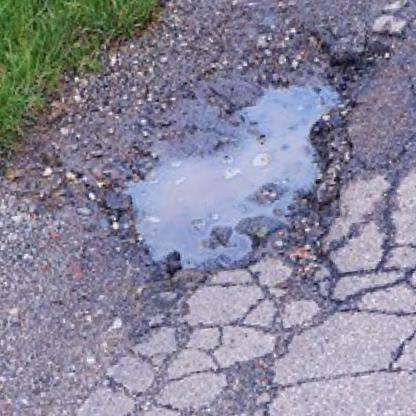pothole: (105, 39, 390, 289)
